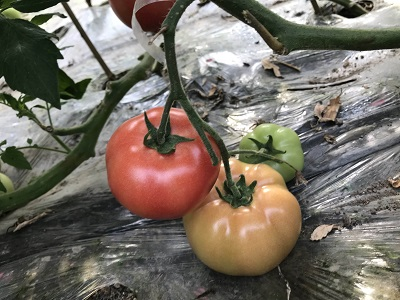immature-tomato: (243, 123, 304, 172)
mature-tomato: (105, 107, 210, 213)
semi-mature-tomato: (192, 168, 301, 276)
